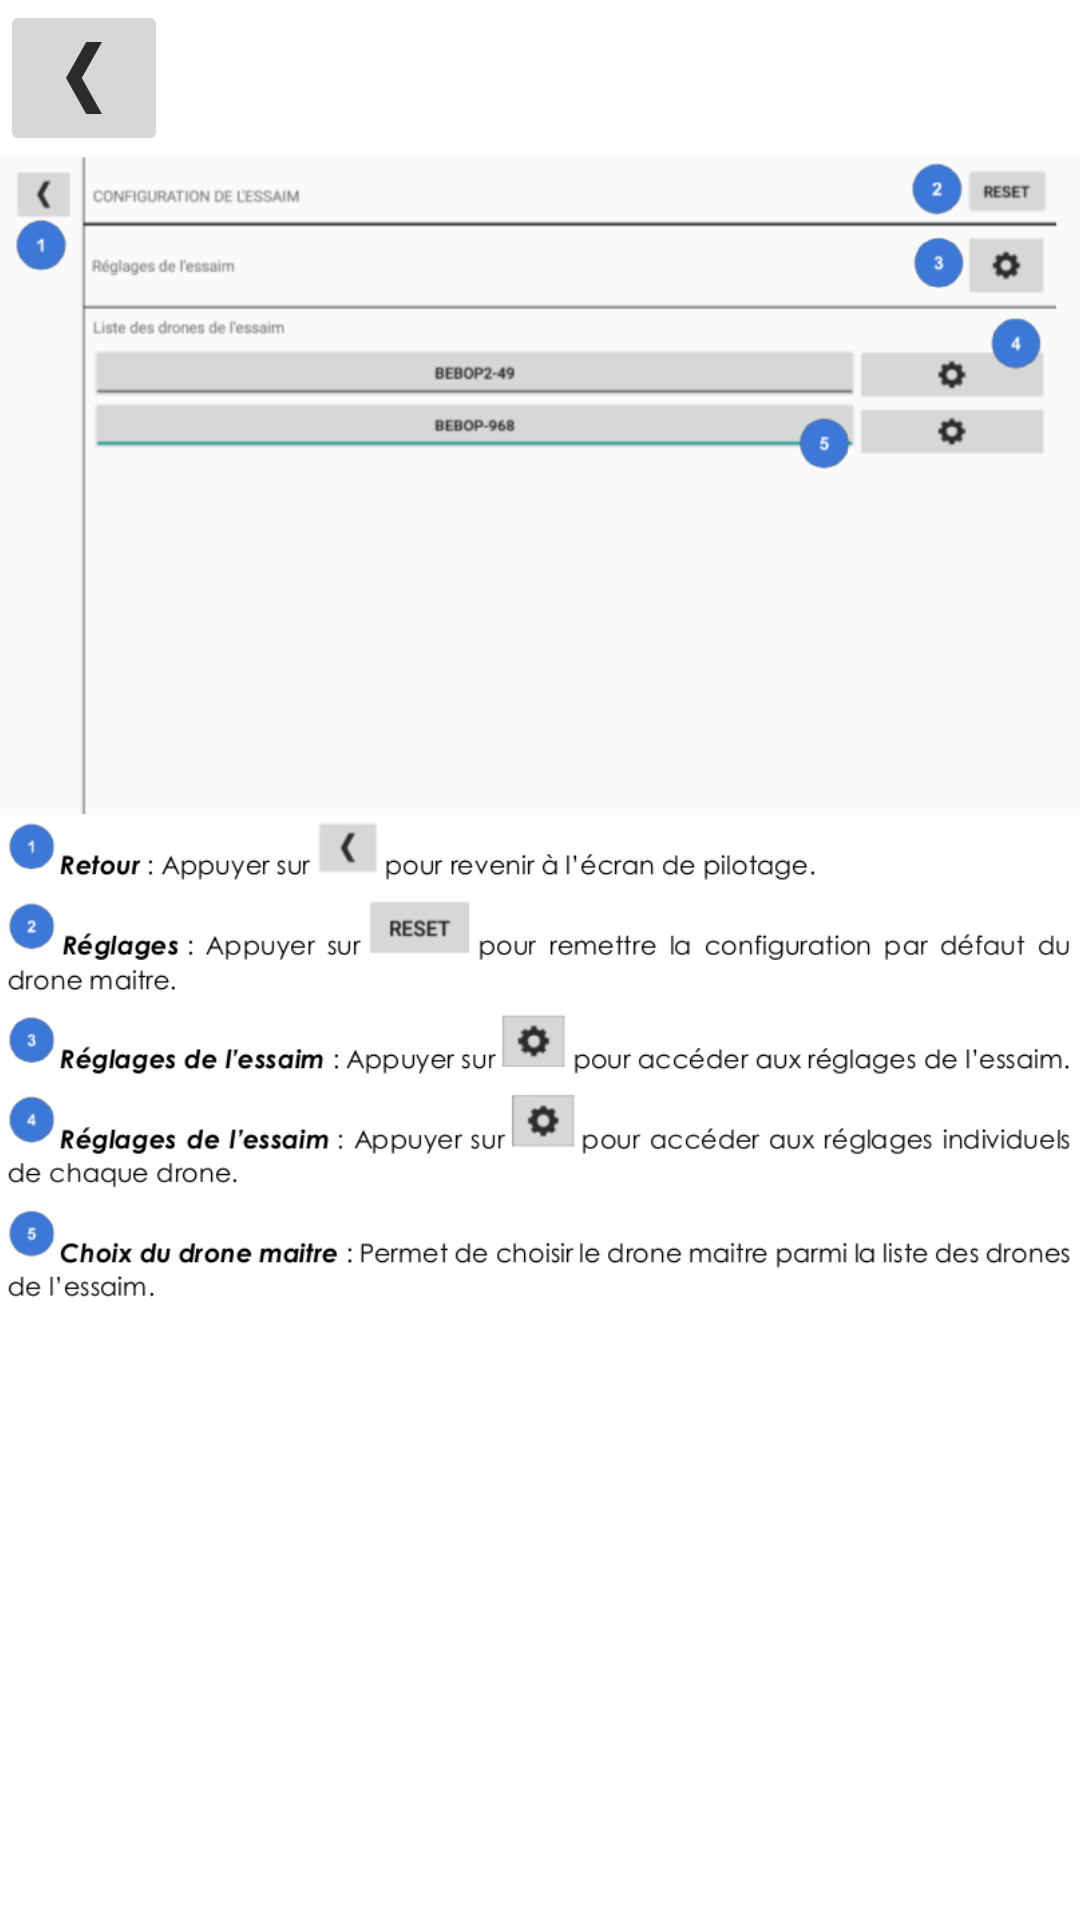

Point at icon controls on the screen. Image size 1080x1920, points as [x,y].
bouton retour: [84,78]
